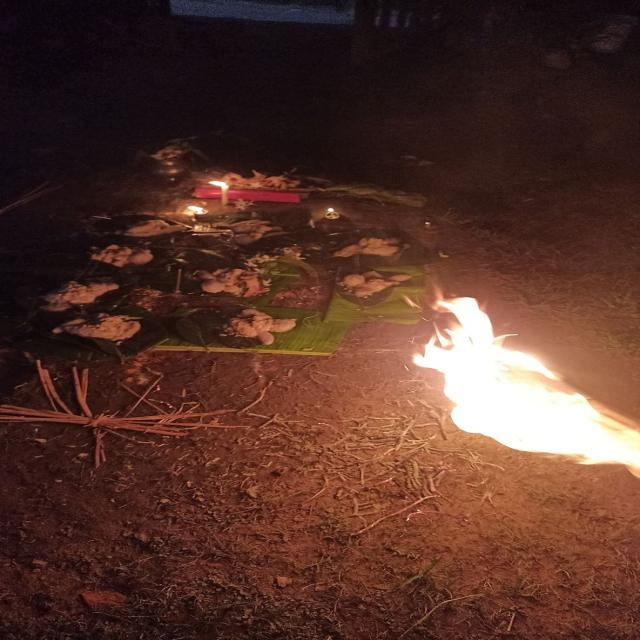fire: (411, 296, 640, 483)
